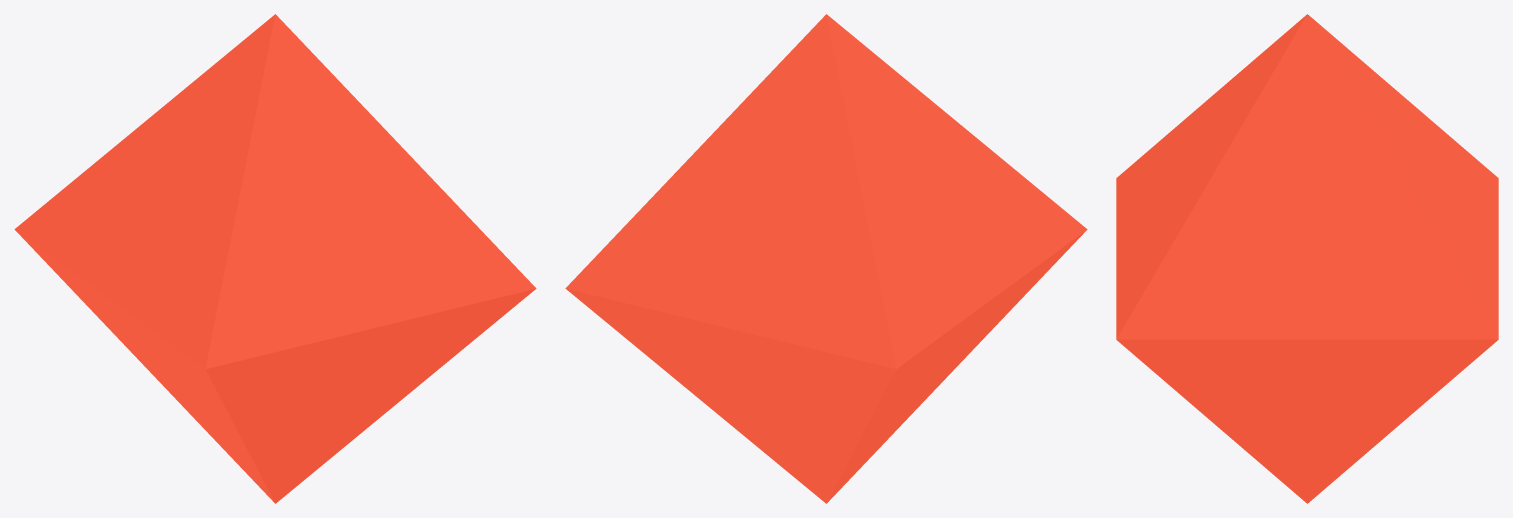
Rendered from fx_hit_splash.glb.
3 renders of one model, left to right at view 1: azimuth 30°, elevation 25°; view 2: azimuth 150°, elevation 25°; view 3: azimuth 270°, elevation 25°, orthographic.
Visible parts, largest first — view 1: fx_hit_splash; view 2: fx_hit_splash; view 3: fx_hit_splash.
Boxes of the visible parts, <box> form: fx_hit_splash: <box>14,14,536,503</box>; fx_hit_splash: <box>565,14,1087,503</box>; fx_hit_splash: <box>1116,14,1498,503</box>.
Size of the model in its own units: 0.3395 by 0.48 by 0.3395.
